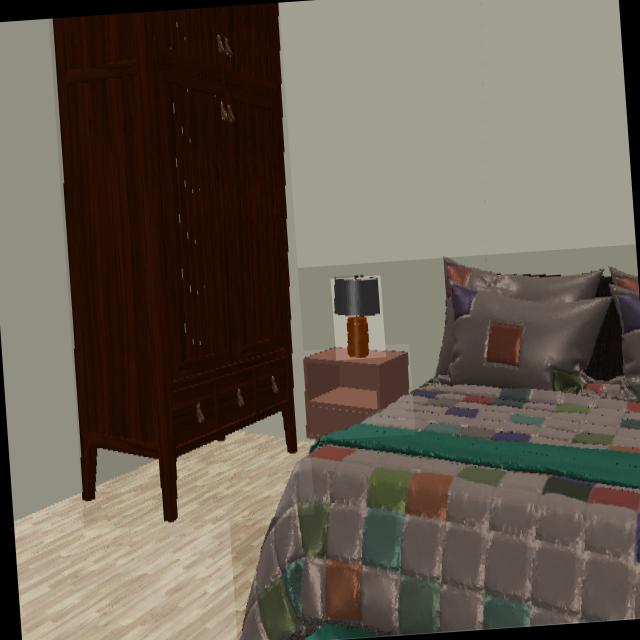bed: (239, 258, 640, 640)
lamp: (333, 277, 383, 358)
nighttable: (302, 348, 410, 440)
wardrobe: (51, 2, 296, 524)
